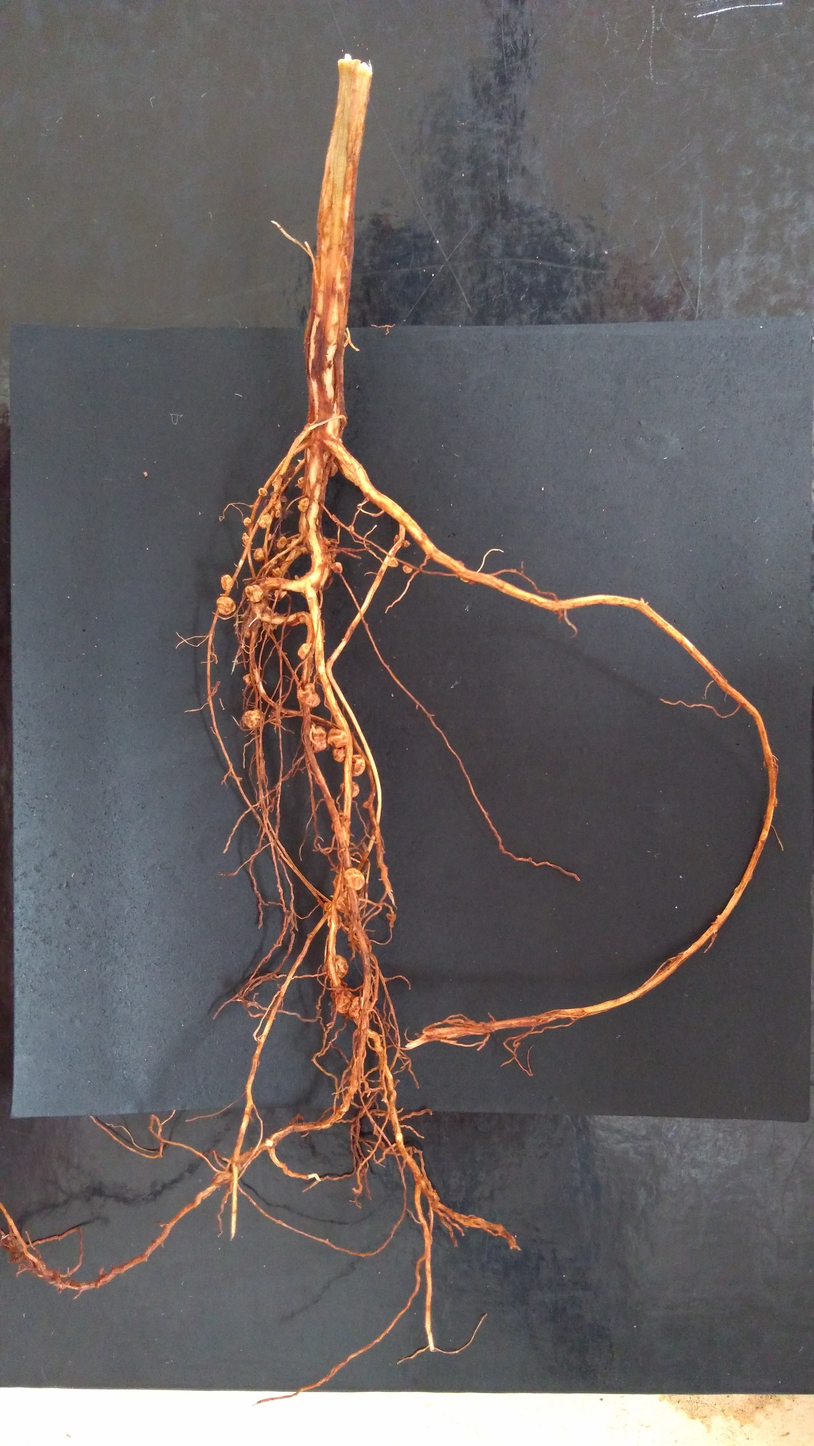nodule: (348, 995, 374, 1024), (322, 954, 349, 980), (309, 720, 328, 753), (297, 682, 321, 708), (343, 867, 366, 891), (333, 990, 356, 1014), (242, 709, 265, 729), (326, 728, 349, 748), (333, 873, 350, 898), (331, 812, 351, 832), (351, 752, 366, 778), (216, 596, 235, 616), (340, 780, 360, 799), (245, 584, 264, 603), (335, 893, 354, 912), (262, 612, 280, 631), (297, 643, 314, 660), (331, 745, 347, 763), (326, 912, 342, 930), (242, 612, 253, 638), (257, 513, 272, 529), (393, 534, 410, 548), (220, 574, 234, 591), (271, 498, 282, 518), (297, 497, 310, 512), (243, 673, 256, 687), (286, 539, 301, 551), (253, 547, 265, 562), (327, 461, 338, 477), (385, 556, 399, 568), (331, 561, 343, 574), (242, 532, 253, 546), (273, 588, 287, 599), (327, 546, 337, 561), (276, 535, 286, 550), (271, 566, 282, 579), (323, 901, 335, 911), (322, 535, 331, 548), (402, 564, 413, 574), (296, 476, 304, 489), (257, 488, 267, 497), (243, 517, 251, 527), (347, 524, 355, 534), (362, 801, 370, 809), (275, 509, 281, 517), (267, 534, 273, 541), (249, 504, 254, 509), (331, 513, 336, 517), (335, 522, 340, 526)
